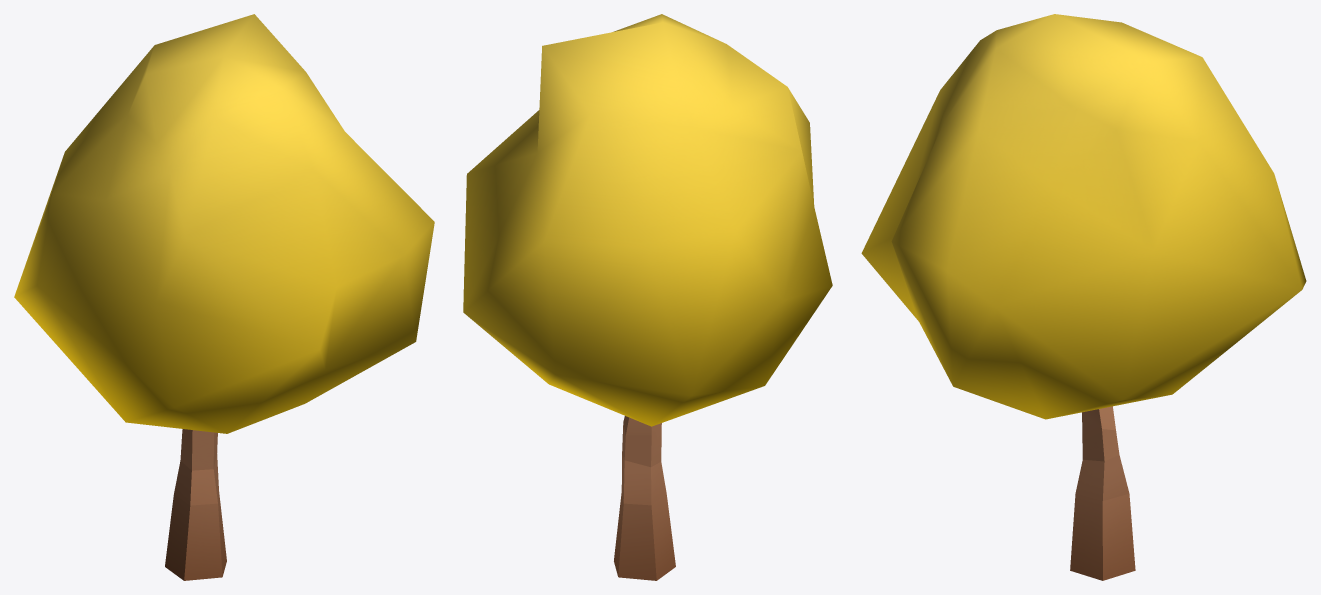
The model's file is TREE008.fbx.
3 renders of one model, left to right at view 1: azimuth 30°, elevation 25°; view 2: azimuth 150°, elevation 25°; view 3: azimuth 270°, elevation 25°, orthographic. The views are drawn at different scales.
Parts seen in each view (by area): view 1: polySurface48; view 2: polySurface48; view 3: polySurface48.
Part boxes in pixels (x1=…): polySurface48: x1=14, y1=14, x2=434, y2=580; polySurface48: x1=463, y1=14, x2=832, y2=580; polySurface48: x1=861, y1=14, x2=1306, y2=580.
Bounding box in the file's own units: 6.59 × 10.61 × 7.73.
Materials: 1 (1 with a texture image).
